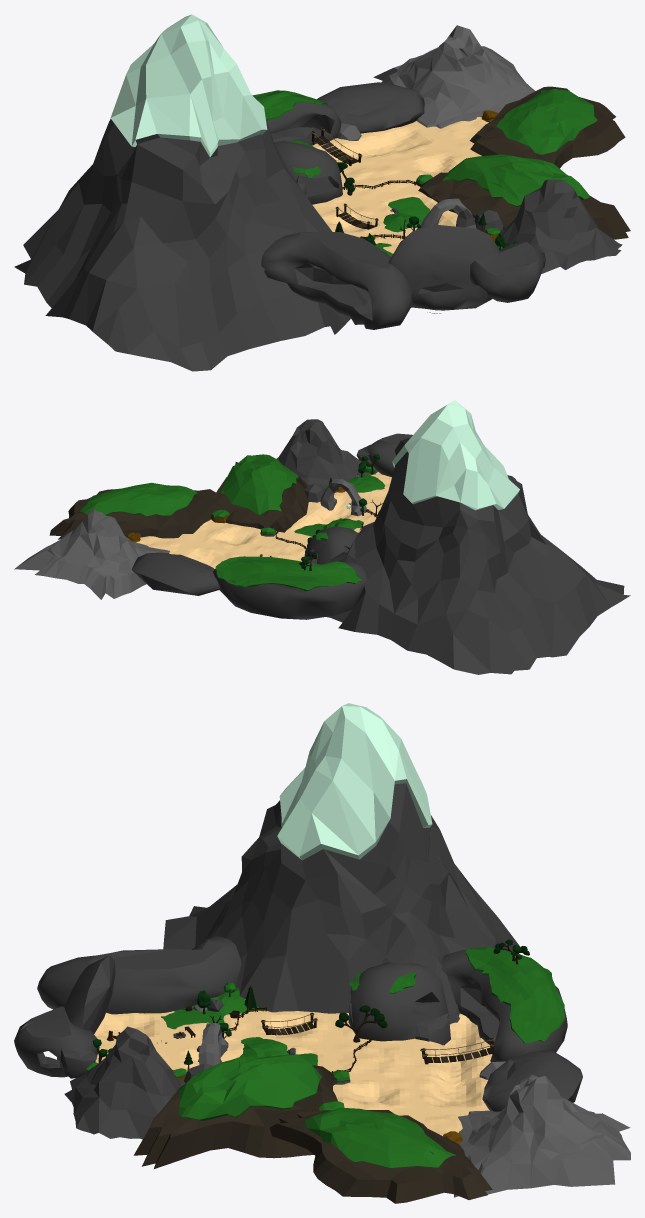
Rendered from first level.FBX.
3 renders of one model, top to bottom at view 1: azimuth 30°, elevation 25°; view 2: azimuth 150°, elevation 25°; view 3: azimuth 270°, elevation 25°, orthographic. The views are drawn at different scales.
Parts seen in each view (by area): view 1: mountain_snow_1, Grounnd, CarvedRock001, mountain3, Teapot002, mountain1, mountain005, mountain004, Teapot001, mountain003, TunnelRock001, mountain2 (+6 smaller); view 2: mountain_snow_1, Grounnd, mountain3, CarvedRock, terrain_green_hill_part007, mountain1, mountain004, mountain003, Teapot001, mountain005, mountain2, TunnelRock (+3 smaller); view 3: mountain_snow_1, Grounnd, mountain3, CarvedRock001, mountain1, mountain004, mountain2, mountain003, TunnelRock, mountain005, terrain_green_hill_part007, CarvedRock (+7 smaller).
Part boxes in pixels (bbox=[...]): mountain_snow_1: bbox=[14, 14, 350, 371]; Grounnd: bbox=[312, 117, 488, 253]; CarvedRock001: bbox=[261, 232, 413, 329]; mountain3: bbox=[373, 25, 535, 128]; Teapot002: bbox=[388, 225, 499, 313]; mountain1: bbox=[496, 179, 622, 273]; mountain005: bbox=[496, 89, 597, 154]; mountain004: bbox=[469, 86, 625, 168]; Teapot001: bbox=[317, 82, 424, 133]; mountain003: bbox=[442, 154, 589, 206]; TunnelRock001: bbox=[470, 241, 545, 302]; mountain2: bbox=[418, 172, 630, 239]; mountain_snow_1: bbox=[326, 400, 630, 674]; Grounnd: bbox=[136, 472, 391, 568]; mountain3: bbox=[14, 509, 170, 599]; CarvedRock: bbox=[213, 561, 366, 619]; terrain_green_hill_part007: bbox=[215, 556, 361, 591]; mountain1: bbox=[276, 419, 365, 486]; mountain004: bbox=[49, 489, 217, 539]; mountain003: bbox=[221, 454, 298, 515]; Teapot001: bbox=[131, 552, 219, 595]; mountain005: bbox=[80, 482, 197, 516]; mountain2: bbox=[216, 462, 308, 532]; TunnelRock: bbox=[304, 526, 358, 564]; mountain_snow_1: bbox=[163, 703, 520, 1024]; Grounnd: bbox=[94, 1010, 492, 1135]; mountain3: bbox=[454, 1074, 630, 1197]; CarvedRock001: bbox=[37, 936, 241, 1014]; mountain1: bbox=[64, 1026, 185, 1139]; mountain004: bbox=[270, 1110, 492, 1203]; mountain2: bbox=[133, 1065, 337, 1168]; mountain003: bbox=[178, 1054, 321, 1120]; TunnelRock: bbox=[348, 962, 450, 1045]; mountain005: bbox=[305, 1107, 456, 1168]; terrain_green_hill_part007: bbox=[465, 946, 564, 1043]; CarvedRock: bbox=[441, 949, 567, 1062].
Size of the model in its own units: 2993 by 1371 by 2380.
